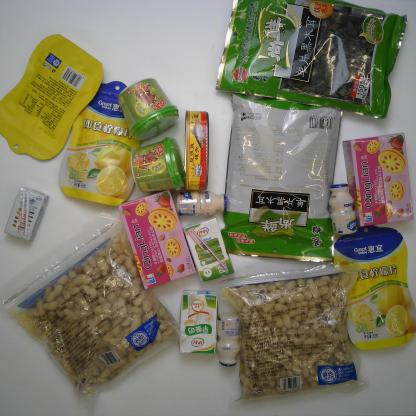Canned Food: (182, 109, 211, 191)
Dessert: (118, 189, 196, 291), (340, 132, 414, 228)
Dried Food: (1, 210, 181, 409), (212, 1, 409, 122), (218, 258, 370, 407), (220, 88, 344, 266)
Dried Fruit: (0, 34, 105, 161), (57, 80, 143, 207), (332, 224, 416, 352)
Instant Drink: (116, 77, 180, 140), (130, 136, 187, 193)
Milk: (182, 216, 236, 282), (178, 289, 218, 356), (3, 186, 50, 242), (326, 182, 358, 236), (214, 312, 242, 368), (175, 190, 228, 218)
